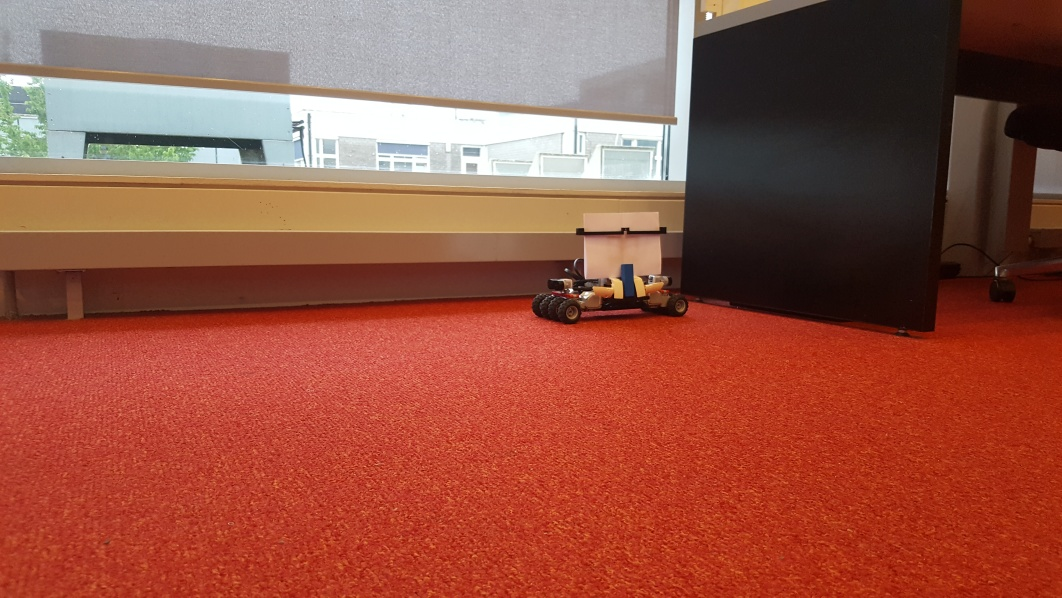car: (531, 212, 690, 322)
